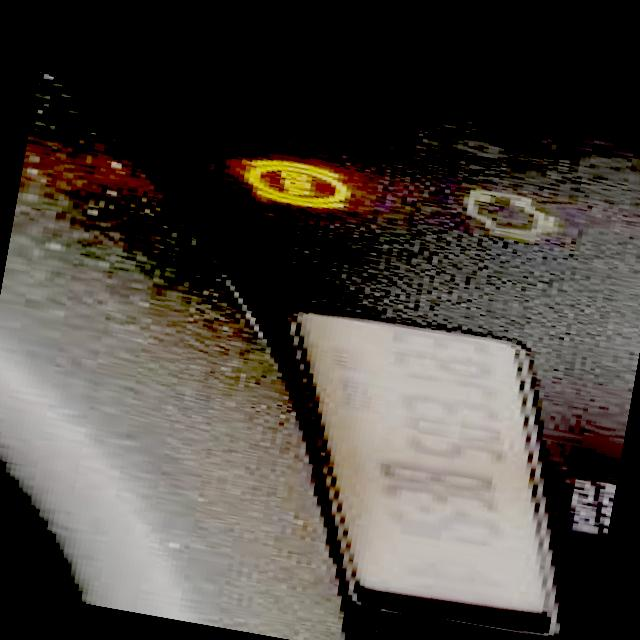kontrolka: (224, 144, 376, 222)
